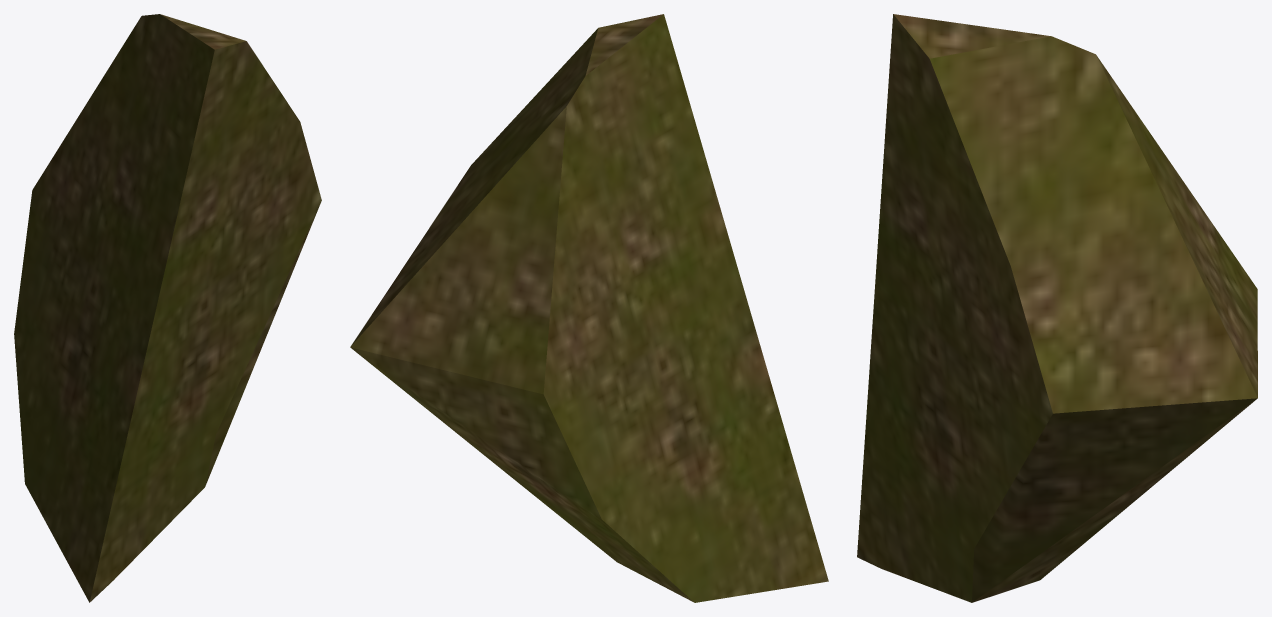
File: kerb_1.glb
3 views of the same model, side by side, from view 1: azimuth 30°, elevation 25°; view 2: azimuth 150°, elevation 25°; view 3: azimuth 270°, elevation 25° (orthographic). The views are drawn at different scales.
Parts seen in each view (by area): view 1: kerb; view 2: kerb; view 3: kerb.
Boxes of the visible parts, x1=… form: kerb: x1=14, y1=14, x2=321, y2=602; kerb: x1=350, y1=14, x2=828, y2=602; kerb: x1=857, y1=14, x2=1257, y2=602.
Size of the model in its own units: 0.1731 by 0.2697 by 0.1562.
Materials: 1 (1 with a texture image).
